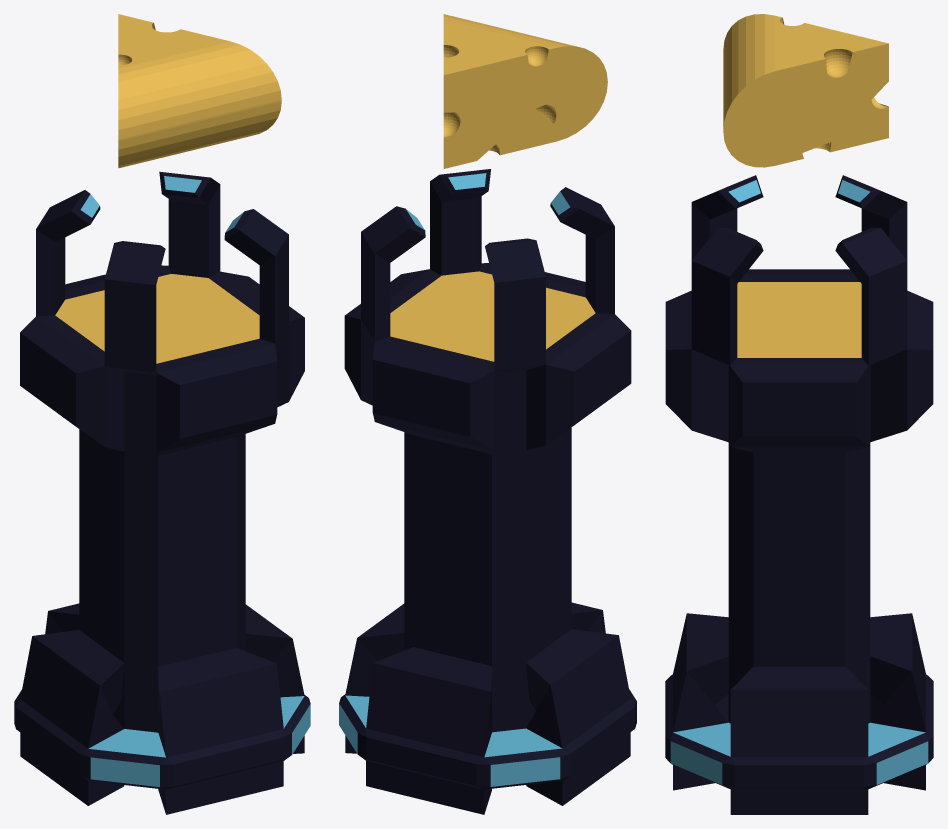
Rendered from Cheese.fbx.
3 views of the same model, side by side, from view 1: azimuth 30°, elevation 25°; view 2: azimuth 150°, elevation 25°; view 3: azimuth 270°, elevation 25° (orthographic).
Visible parts, largest first — view 1: CheeseBase, Cheese; view 2: CheeseBase, Cheese; view 3: CheeseBase, Cheese.
Part boxes in pixels (bbox=[...]): CheeseBase: bbox=[14, 171, 310, 814]; Cheese: bbox=[118, 14, 281, 168]; CheeseBase: bbox=[339, 169, 636, 814]; Cheese: bbox=[443, 14, 607, 168]; CheeseBase: bbox=[665, 175, 933, 814]; Cheese: bbox=[723, 14, 888, 167].
Bounding box in the file's own units: 243 × 717 × 243.
